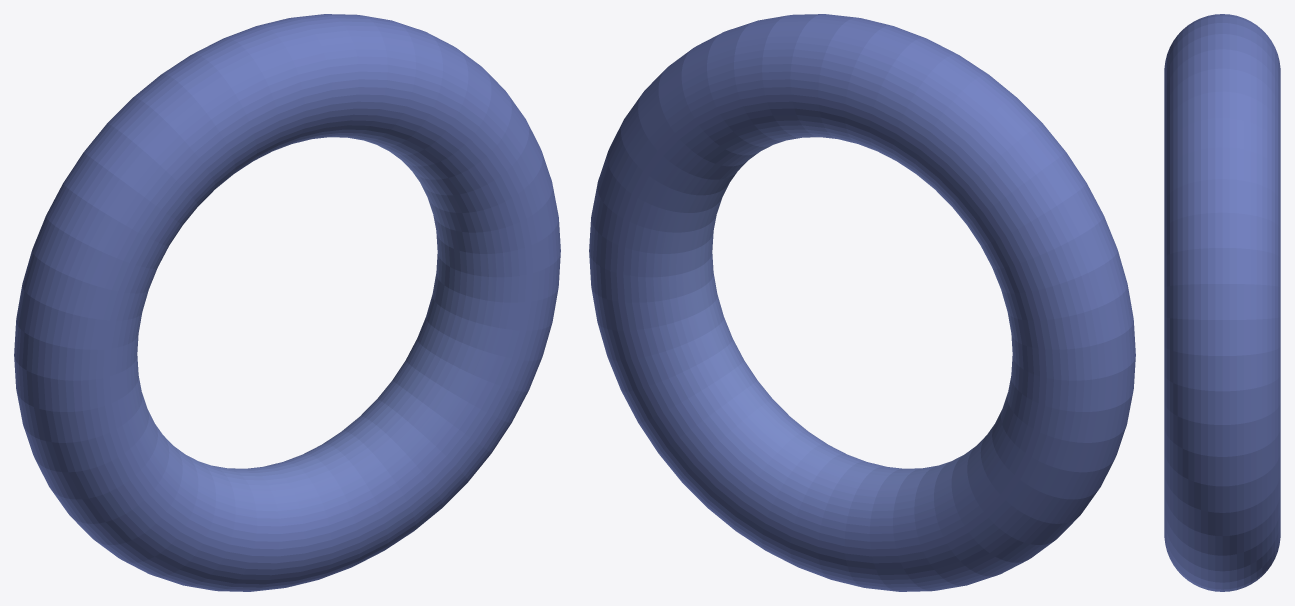
3 views of the same model, side by side, from view 1: azimuth 30°, elevation 25°; view 2: azimuth 150°, elevation 25°; view 3: azimuth 270°, elevation 25° (orthographic). The views are drawn at different scales.
Parts seen in each view (by area): view 1: world; view 2: world; view 3: world.
Boxes of the visible parts, x1,y1,x2,y2 form: world: (14,14,560,591); world: (589,14,1135,591); world: (1164,14,1280,591).
Bounding box in the file's own units: 19.2 × 19.16 × 3.86.
